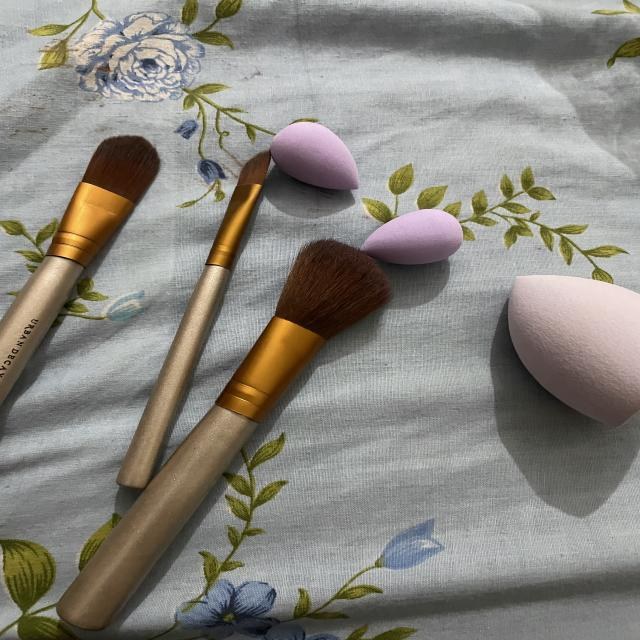beauty blender: (491, 262, 640, 438), (267, 107, 376, 209), (354, 198, 477, 272)
brush: (214, 237, 398, 482), (0, 122, 178, 347), (178, 137, 282, 289)
